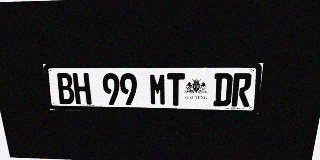9: (102, 73, 121, 105), (119, 73, 138, 105)
B: (55, 73, 75, 104)
D: (213, 73, 233, 106)
H: (72, 73, 92, 104)
M: (149, 73, 167, 106)
R: (231, 73, 252, 107)
T: (167, 73, 185, 106)
